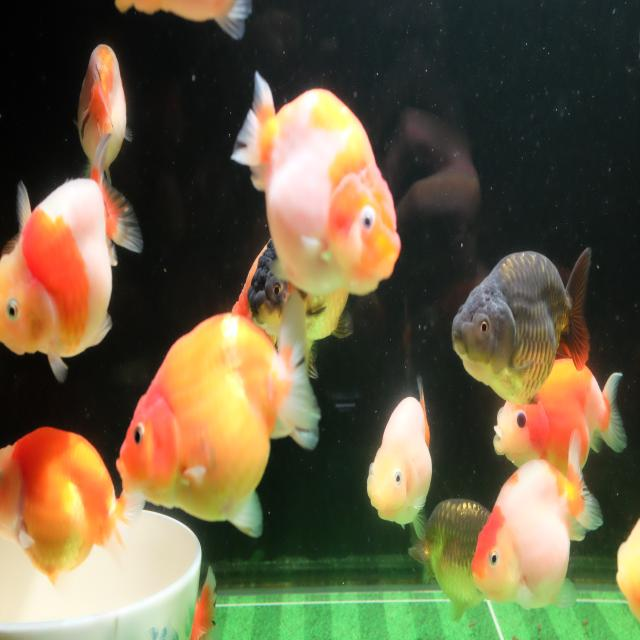Tilapia: (114, 286, 320, 543), (228, 68, 402, 302), (0, 130, 144, 387), (469, 425, 607, 613), (0, 422, 150, 592), (450, 244, 594, 406), (492, 354, 630, 474), (247, 230, 356, 350), (364, 374, 435, 549), (402, 494, 491, 624), (68, 34, 133, 183)
